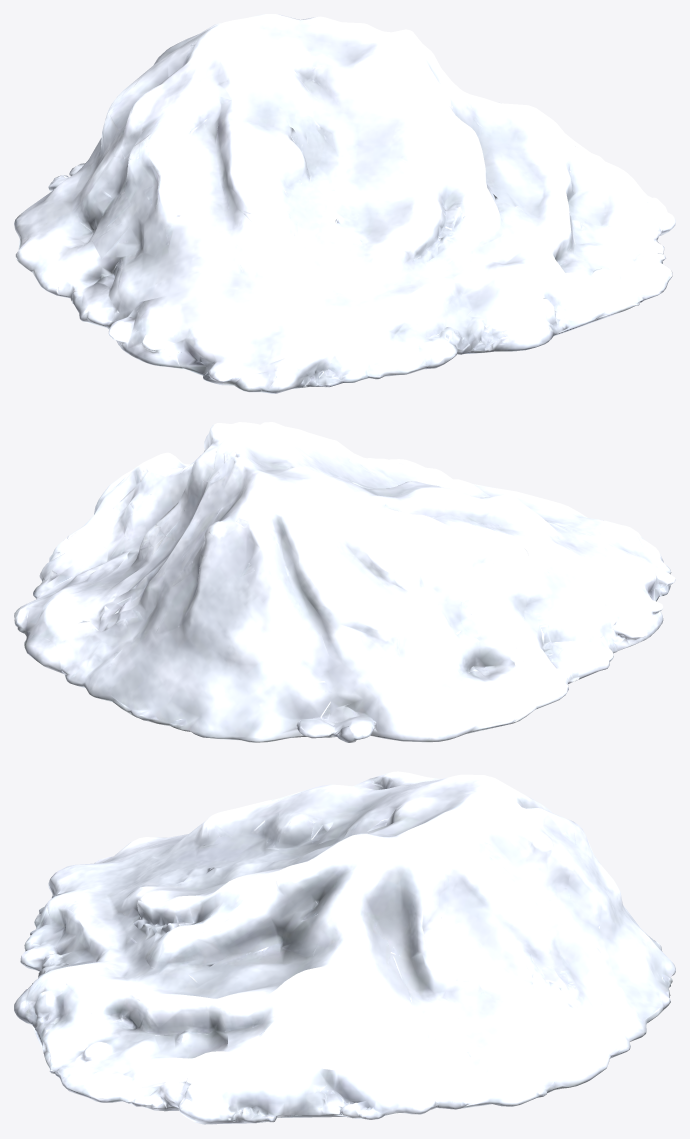
File: kit_erzurum_snow_drift.glb
3 renders of one model, top to bottom at view 1: azimuth 30°, elevation 25°; view 2: azimuth 150°, elevation 25°; view 3: azimuth 270°, elevation 25°, orthographic. The views are drawn at different scales.
Parts seen in each view (by area): view 1: Mesh1.0; view 2: Mesh1.0; view 3: Mesh1.0.
Part boxes in pixels (left/top/right/bottom): Mesh1.0: left=14, top=14, right=675, bottom=393; Mesh1.0: left=14, top=422, right=675, bottom=742; Mesh1.0: left=14, top=771, right=675, bottom=1124.
Size of the model in its own units: 2.46 by 0.8 by 2.46.
Materials: 1 (1 with a texture image).
